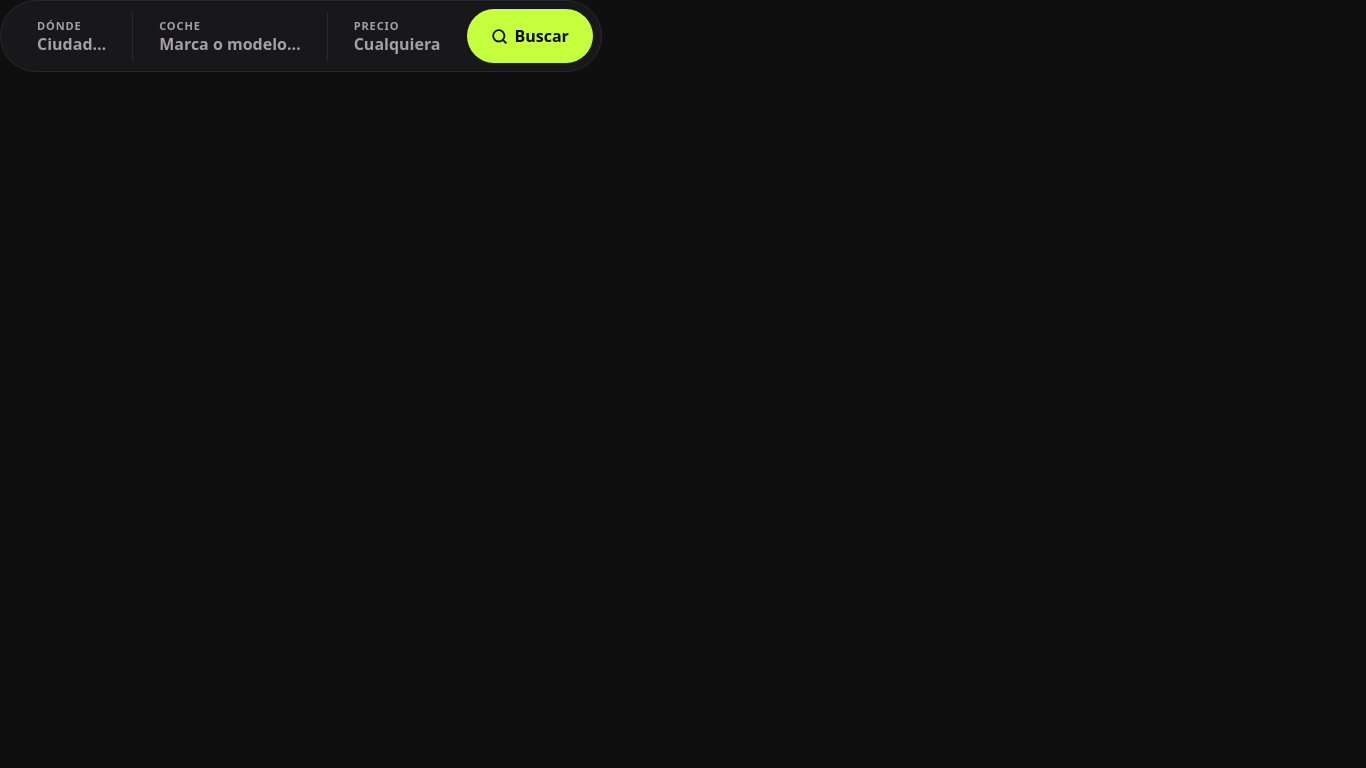
Test case: ENTRY-2: LandingSearch — desktop segments › ENTRY-2: shows Dónde, Coche, Precio and Buscar, each opening the map's own popover
The width and height of the screenshot is (1366, 768).
Check: the button "Coche Marca o modelo…" is shown, box [133, 12, 328, 60]
Check: the button "Precio Cualquiera" is shown, box [328, 12, 466, 60]
Click the button "Dónde Ciudad…" at (72, 36), box [11, 12, 133, 60]
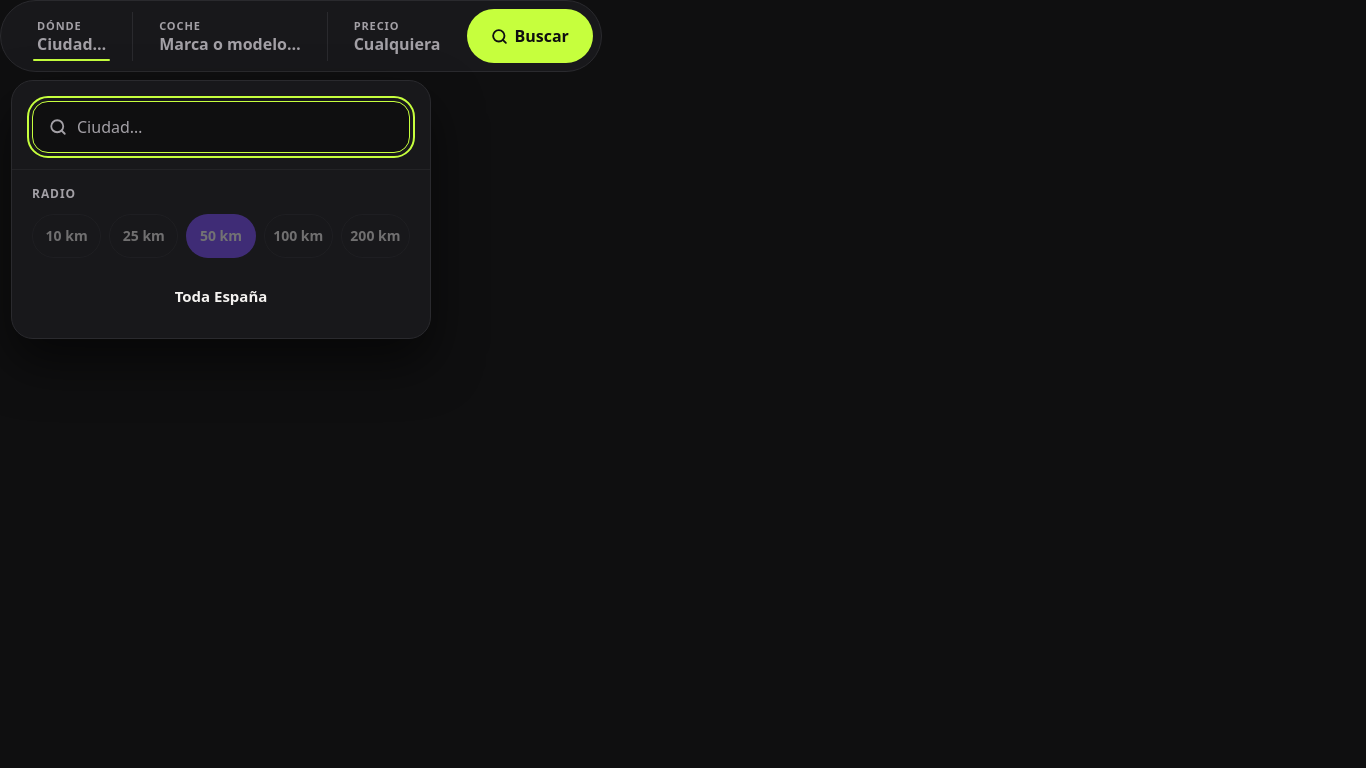
Check: the dialog named "Dónde" is shown, box [11, 80, 431, 339]
Check: the dropdown labelled "Ciudad" is shown, box [77, 102, 405, 152]
